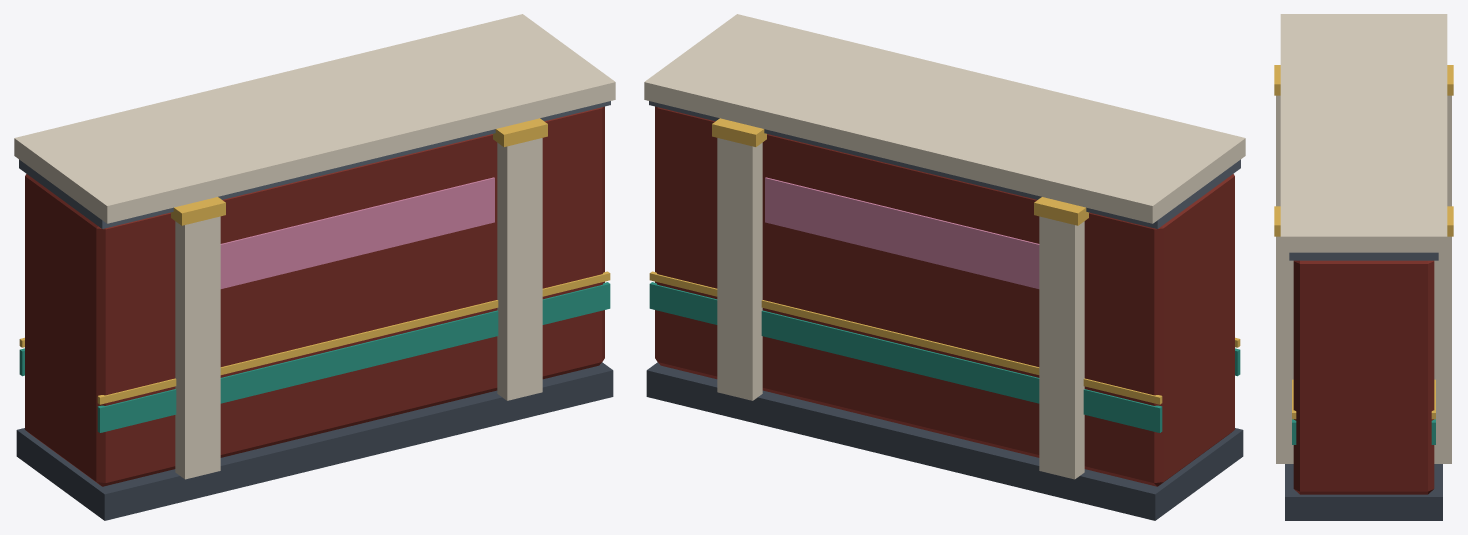
Rendered from bld_ug_wall_c.glb.
The picture shows the model from 3 angles, left to right: view 1: azimuth 30°, elevation 25°; view 2: azimuth 150°, elevation 25°; view 3: azimuth 270°, elevation 25°; orthographic projection. The views are drawn at different scales.
Parts seen in each view (by area): view 1: bld_ug_wall_c; view 2: bld_ug_wall_c; view 3: bld_ug_wall_c.
Part boxes in pixels (x1,y1,x2,y2): bld_ug_wall_c: (14,14,615,520); bld_ug_wall_c: (644,14,1245,520); bld_ug_wall_c: (1274,14,1453,520).
Bounding box in the file's own units: 6.02 × 3.57 × 2.04.
Materials: 1 (1 with a texture image).
